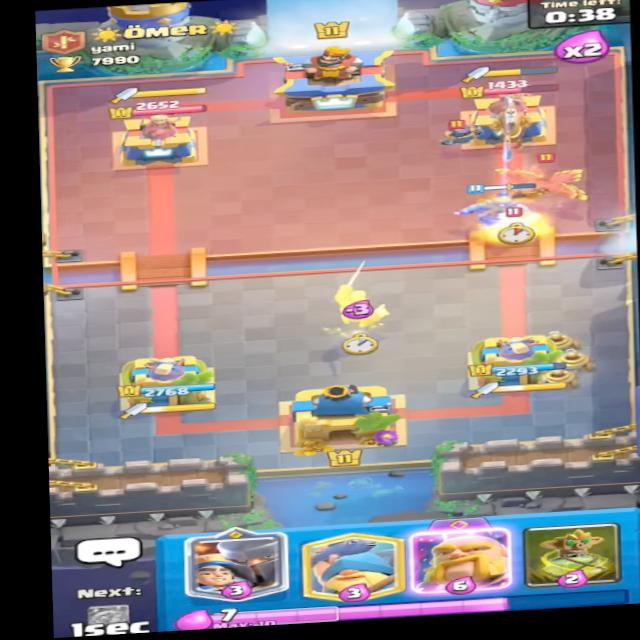mini-pekka: (434, 119, 485, 148)
phoenix: (484, 149, 609, 211)
